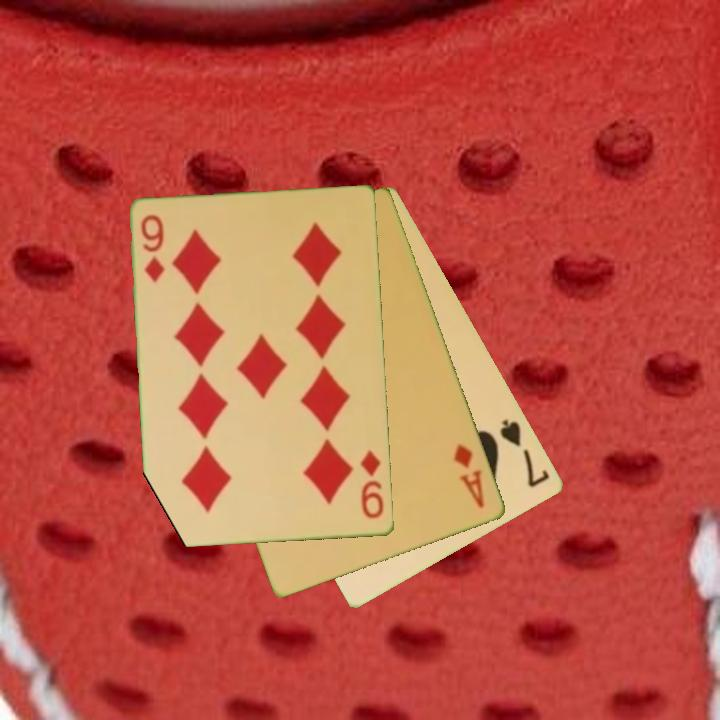7s: (496, 415, 553, 491)
9d: (137, 211, 168, 285), (357, 446, 387, 522)
Ad: (450, 440, 488, 511)
